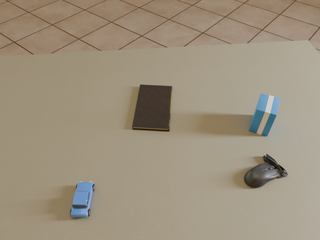book: (132, 85, 172, 131)
box: (249, 94, 280, 136)
mouse: (244, 154, 288, 188)
toy_car: (70, 182, 95, 217)
